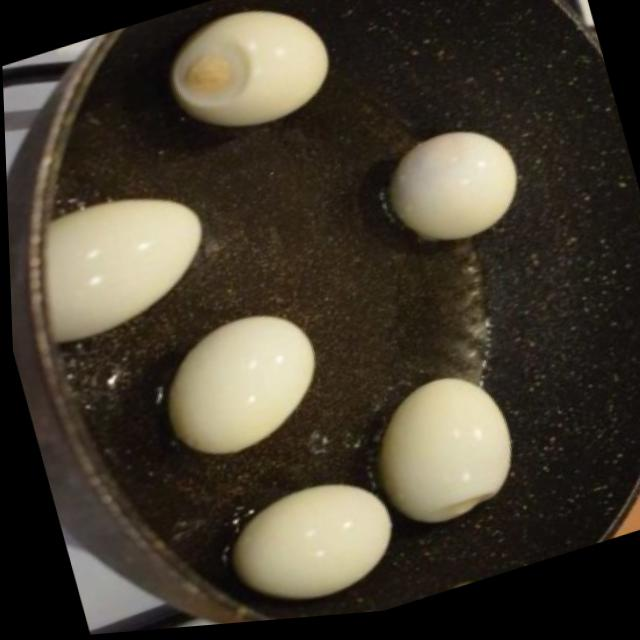EGG: (44, 200, 196, 339), (379, 379, 513, 520), (173, 317, 313, 450), (229, 486, 388, 595), (173, 12, 326, 123), (390, 135, 516, 239)
